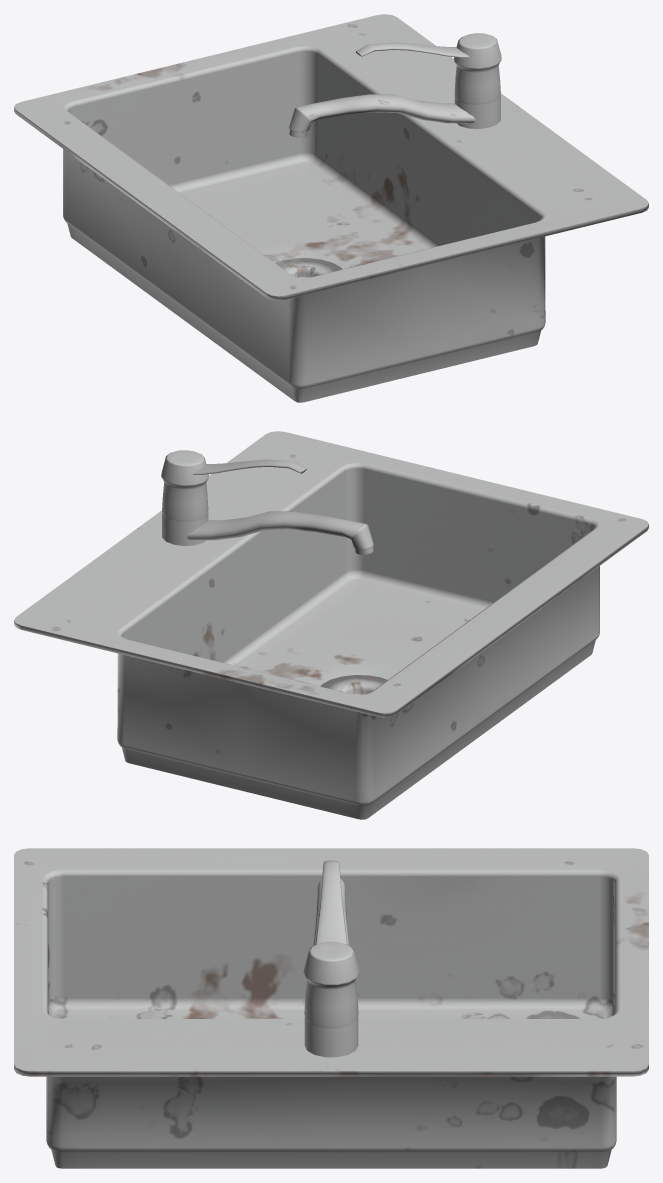
The model's file is sink_flattened.fbx.
The picture shows the model from 3 angles, top to bottom: view 1: azimuth 30°, elevation 25°; view 2: azimuth 150°, elevation 25°; view 3: azimuth 270°, elevation 25°; orthographic projection. The views are drawn at different scales.
Visible parts, largest first — view 1: polySurface36, new_faucet_02, new_faucet_tube, new_faucet_switch, polySurface35; view 2: polySurface36, new_faucet_02, new_faucet_tube, new_faucet_switch, polySurface35; view 3: polySurface36, new_faucet_02, new_faucet_switch.
Part boxes in pixels (left/top/right/bottom): polySurface36: left=14, top=14, right=648, bottom=402; new_faucet_02: left=454, top=33, right=501, bottom=128; new_faucet_tube: left=289, top=94, right=476, bottom=137; new_faucet_switch: left=356, top=42, right=469, bottom=57; polySurface35: left=275, top=258, right=342, bottom=277; polySurface36: left=14, top=431, right=648, bottom=819; new_faucet_02: left=161, top=450, right=208, bottom=545; new_faucet_tube: left=186, top=511, right=373, bottom=554; new_faucet_switch: left=193, top=459, right=306, bottom=474; polySurface35: left=320, top=675, right=387, bottom=694; polySurface36: left=14, top=848, right=648, bottom=1168; new_faucet_02: left=303, top=941, right=359, bottom=1057; new_faucet_switch: left=315, top=860, right=347, bottom=944.
Bounding box in the file's own units: 11196 × 6407 × 13457.
1 material, 1 textured.
